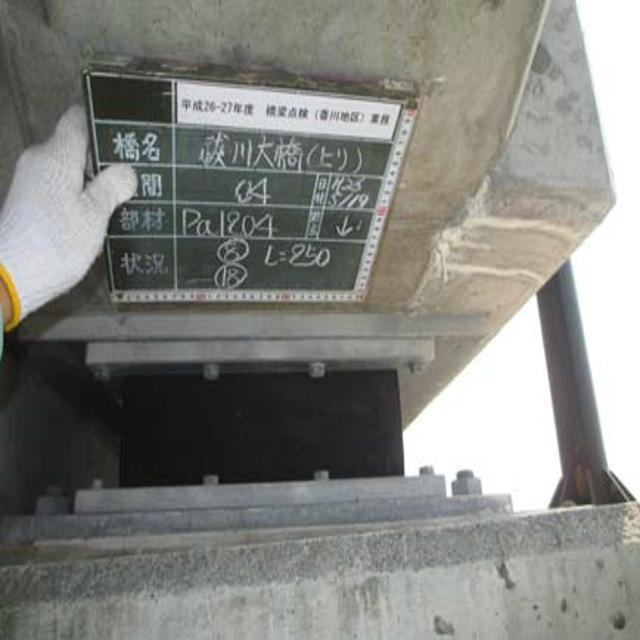freelime: (430, 174, 577, 326)
